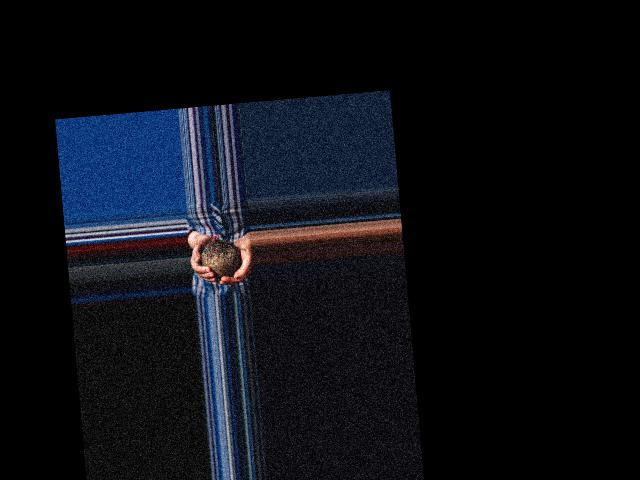beet: (199, 231, 242, 278)
